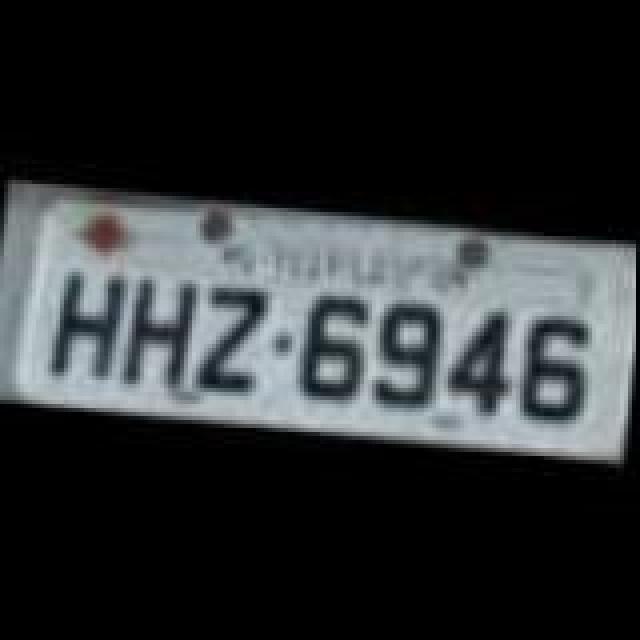4: (448, 304, 520, 416)
6: (518, 314, 594, 426), (298, 296, 374, 400)
9: (376, 302, 448, 406)
H: (48, 268, 128, 384), (124, 278, 204, 394)
Z: (202, 284, 270, 396)
